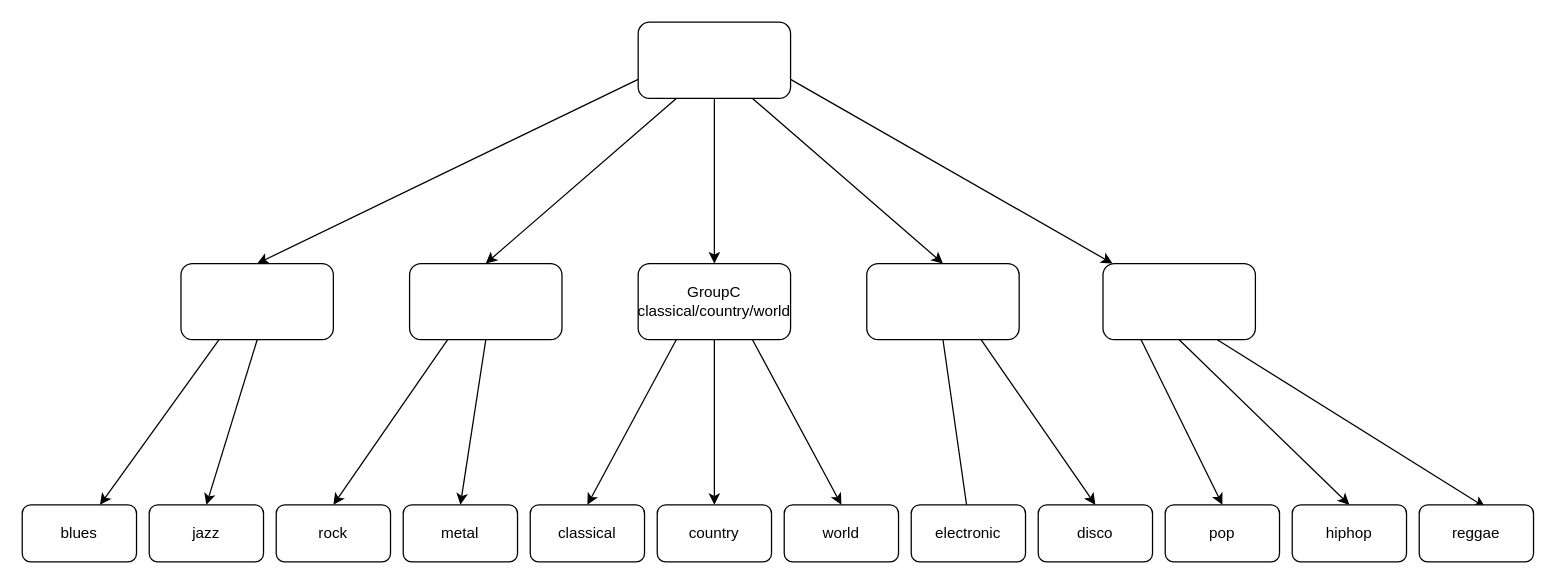
Some shapes in this 1556 by 584 pixel diagram are drawn without their labels. Here are the shapes that lost their labels. From the top down, the centre of each, then its label:
the point at 714,59: GroupRoot
the point at 256,301: GroupA blues/jazz
the point at 485,301: GroupB rock/metal
the point at 942,301: GroupD electronic/disco
the point at 1178,301: GroupE pop/hiphop/reggae
